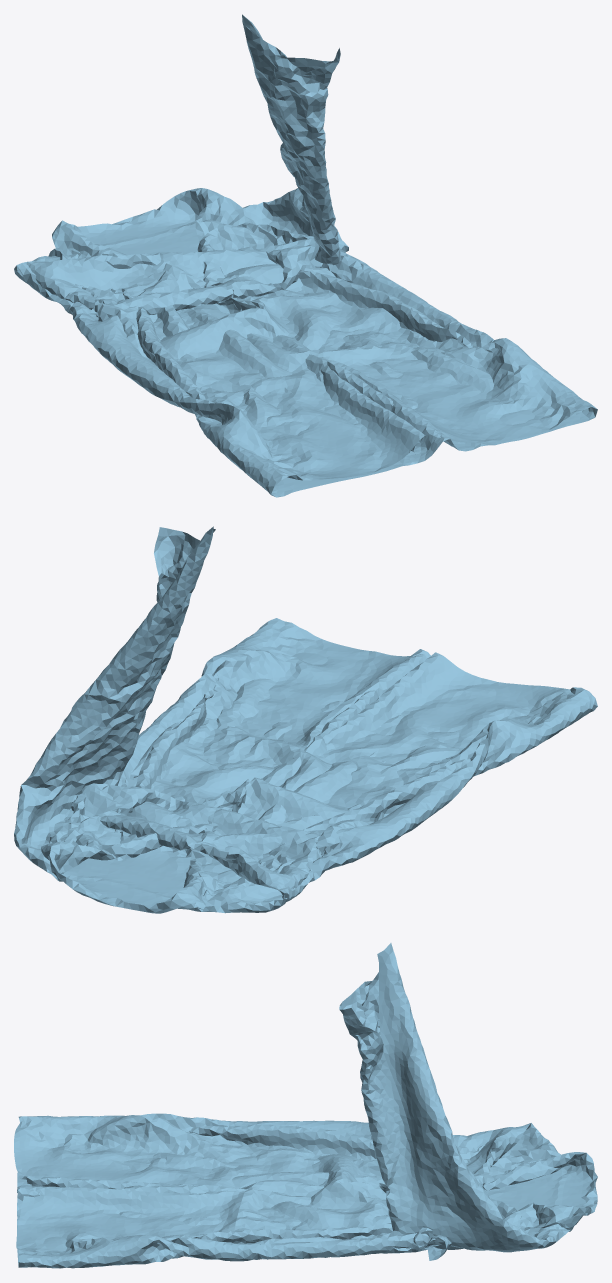
Rendered from frame_13.glb.
3 renders of one model, top to bottom at view 1: azimuth 30°, elevation 25°; view 2: azimuth 150°, elevation 25°; view 3: azimuth 270°, elevation 25°, orthographic. The views are drawn at different scales.
Parts seen in each view (by area): view 1: frame_13.obj; view 2: frame_13.obj; view 3: frame_13.obj.
Part boxes in pixels (x1,y1,x2,y2): frame_13.obj: (14,14,597,497); frame_13.obj: (14,526,597,913); frame_13.obj: (14,943,597,1268).
Size of the model in its own units: 0.9618 by 0.825 by 1.65.
